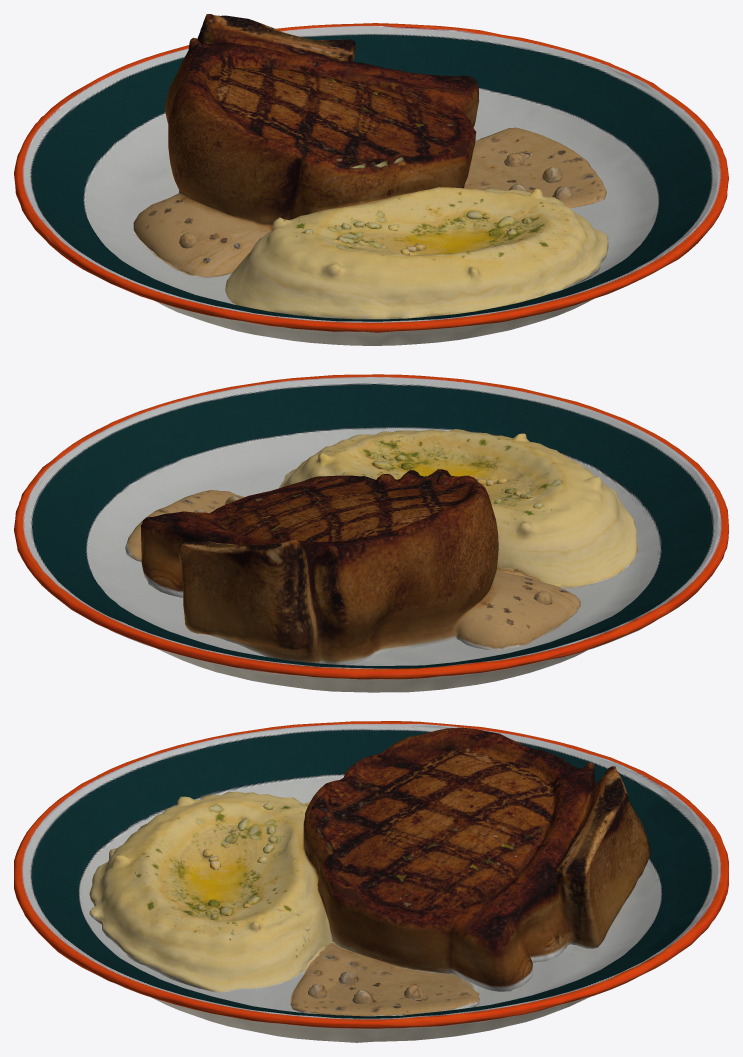
The model's file is rib_eye_fiorentina.fbx.
3 renders of one model, top to bottom at view 1: azimuth 30°, elevation 25°; view 2: azimuth 150°, elevation 25°; view 3: azimuth 270°, elevation 25°, orthographic.
Parts seen in each view (by area): view 1: meshes[0]; view 2: meshes[0]; view 3: meshes[0].
Boxes of the visible parts, box(x1,y1,x2,y2) form: meshes[0]: box(14, 14, 728, 345); meshes[0]: box(14, 374, 728, 692); meshes[0]: box(14, 721, 728, 1042).
Bounding box in the file's own units: 99.8 × 21.29 × 99.8.
Materials: 1 (1 with a texture image).
